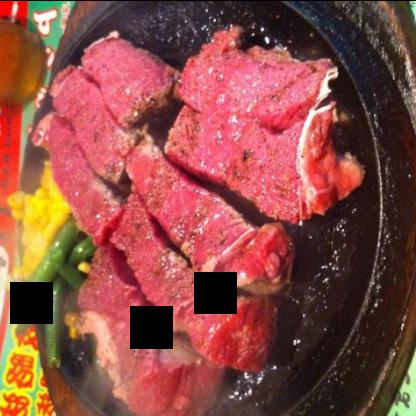beef: (114, 200, 274, 373), (121, 145, 299, 291), (74, 248, 223, 415), (165, 101, 363, 218), (179, 40, 324, 130), (45, 62, 147, 186), (38, 112, 122, 240), (80, 30, 175, 123)
